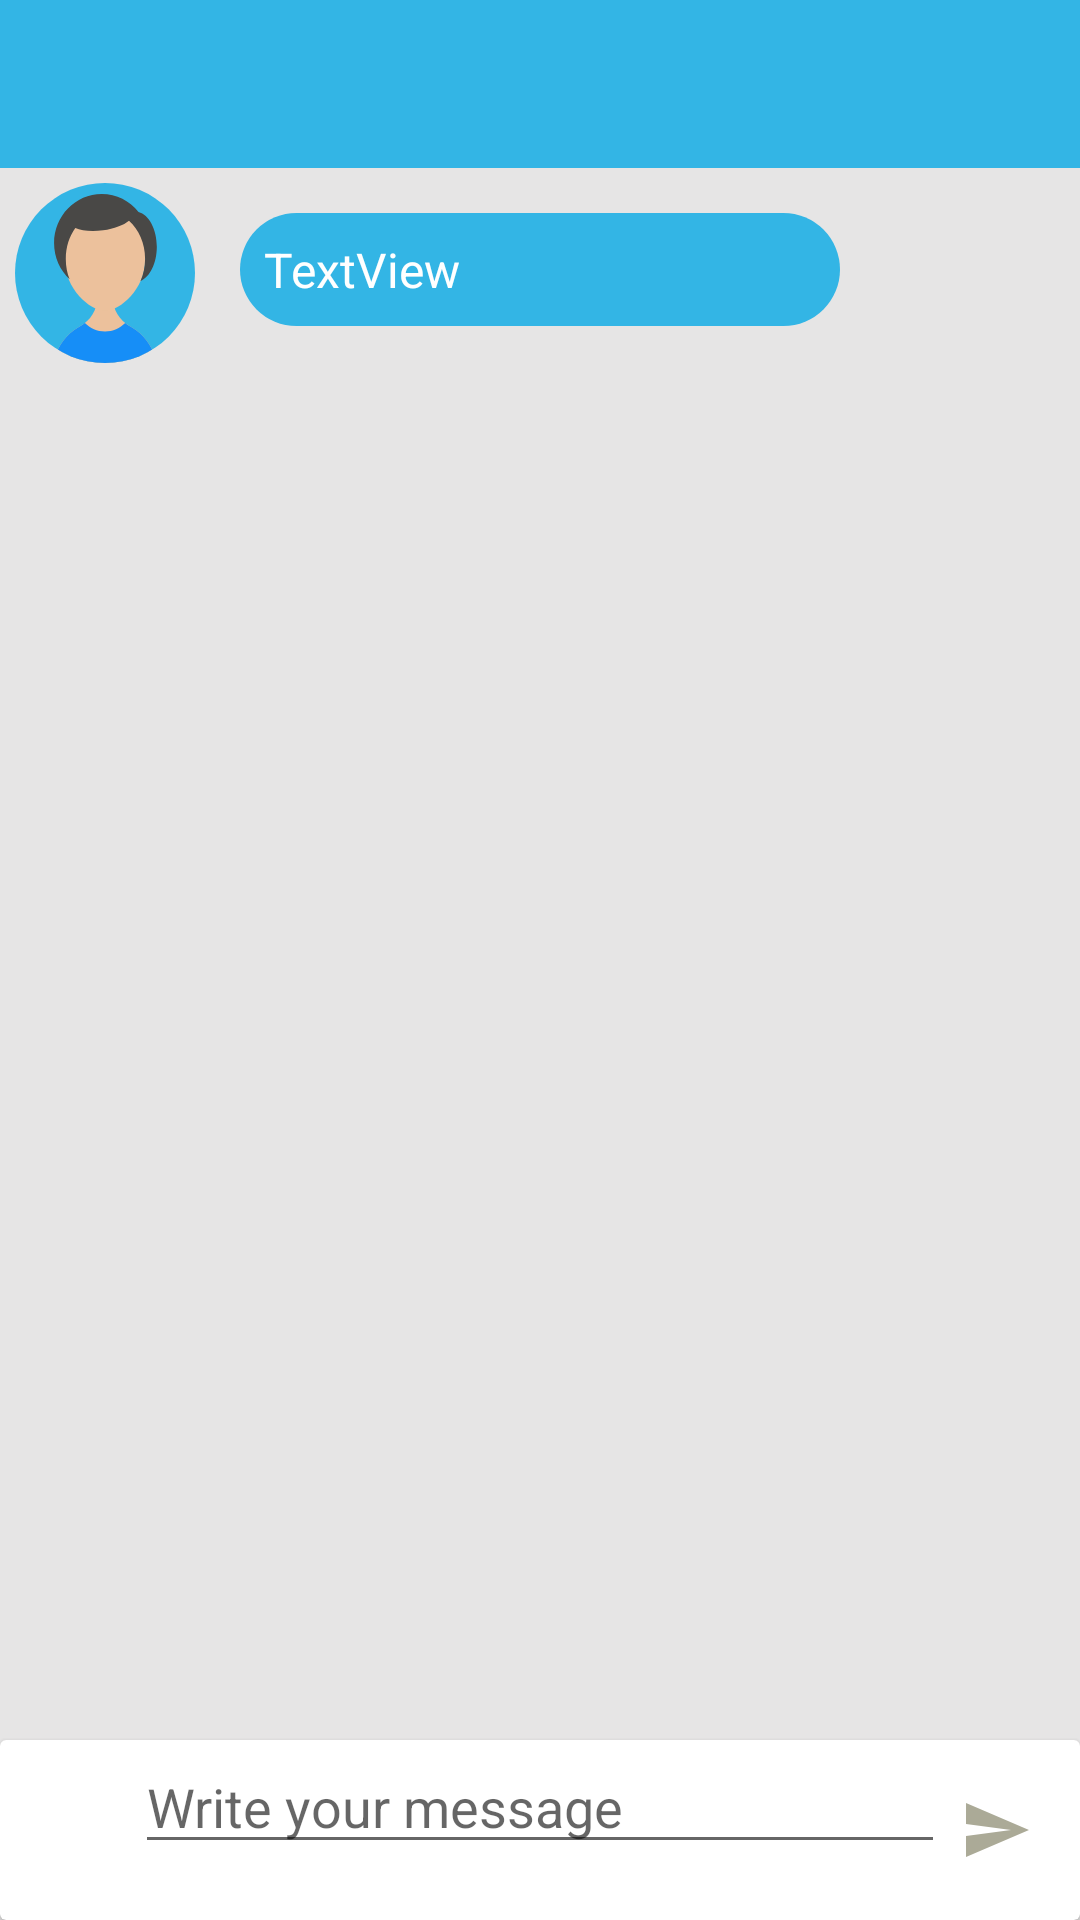

Where to tap for icons on this 1080×1920 app screen, as (x=x, y=y):
personview: (x=105, y=273)
send: (x=997, y=1830)
